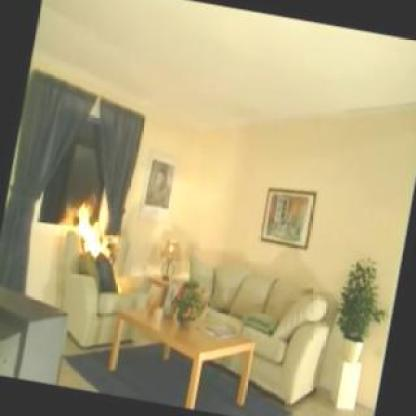Fire: (66, 197, 118, 261)
